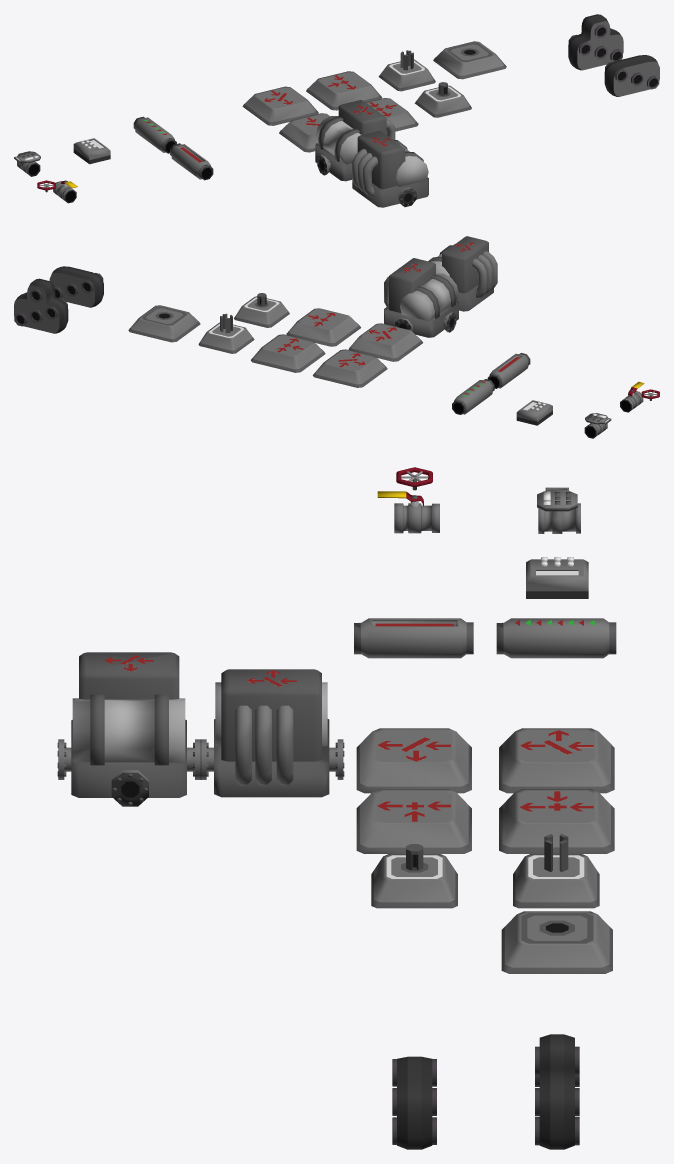
Rendered from PipeMachinery.fbx.
The picture shows the model from 3 angles, top to bottom: view 1: azimuth 30°, elevation 25°; view 2: azimuth 150°, elevation 25°; view 3: azimuth 270°, elevation 25°; orthographic projection. The views are drawn at different scales.
Visible parts, largest first — view 1: FilterL2, FilterR2, PipesManifold4, FilterR, PipesManifold3, ConnectorPort, MixerR, Ignitor, Injector, FilterL, PumpVolume, Pump (+4 smaller); view 2: FilterR2, FilterL2, PipesManifold4, MixerR, FilterR, FilterL, MixerL, ConnectorPort, PipesManifold3, Ignitor, Injector, Pump (+4 smaller); view 3: FilterL2, FilterR2, MixerL, FilterL, MixerR, FilterR, ConnectorPort, PipesManifold4, Ignitor, Pump, PumpVolume, Injector (+4 smaller).
Part boxes in pixels (<box>): FilterL2: <box>352,130,428,207</box>; FilterR2: <box>315,100,395,181</box>; PipesManifold4: <box>568,14,623,70</box>; FilterR: <box>242,86,318,125</box>; PipesManifold3: <box>604,55,659,96</box>; ConnectorPort: <box>433,41,506,79</box>; MixerR: <box>306,71,382,110</box>; Ignitor: <box>378,50,435,91</box>; Injector: <box>414,82,471,117</box>; FilterL: <box>279,113,329,152</box>; PumpVolume: <box>170,143,213,180</box>; Pump: <box>133,116,176,153</box>; FilterR2: <box>384,258,458,337</box>; FilterL2: <box>428,236,497,311</box>; PipesManifold4: <box>14,278,68,333</box>; MixerR: <box>251,334,325,372</box>; FilterR: <box>313,349,387,387</box>; FilterL: <box>348,323,422,361</box>; MixerL: <box>286,308,360,346</box>; ConnectorPort: <box>128,305,200,342</box>; PipesManifold3: <box>49,266,103,307</box>; Ignitor: <box>198,313,254,353</box>; Injector: <box>234,293,289,327</box>; Pump: <box>452,379,494,414</box>; FilterL2: <box>57,652,200,806</box>; FilterR2: <box>201,669,344,797</box>; MixerL: <box>356,789,471,853</box>; FilterL: <box>356,728,471,793</box>; MixerR: <box>499,789,614,853</box>; FilterR: <box>499,728,614,793</box>; ConnectorPort: <box>501,911,612,973</box>; PipesManifold4: <box>535,1034,579,1149</box>; Ignitor: <box>513,834,599,908</box>; Pump: <box>496,618,616,658</box>; PumpVolume: <box>354,618,473,658</box>; Injector: <box>371,844,457,908</box>.
Size of the model in its own units: 9.84 by 1.25 by 3.92.
